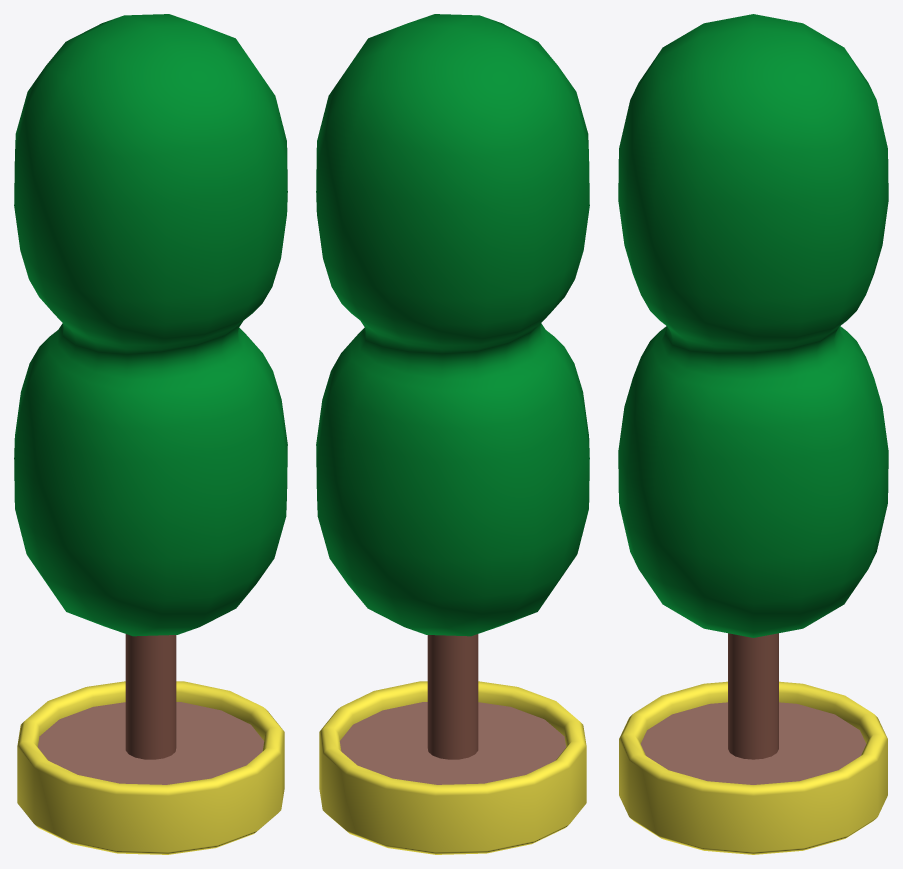
File: Store_10_Tree_1.glb
3 views of the same model, side by side, from view 1: azimuth 30°, elevation 25°; view 2: azimuth 150°, elevation 25°; view 3: azimuth 270°, elevation 25° (orthographic).
Visible parts, largest first — view 1: Store_10_Tree_1; view 2: Store_10_Tree_1; view 3: Store_10_Tree_1.
Part boxes in pixels (x1,y1,x2,y2): Store_10_Tree_1: (14,14,287,854); Store_10_Tree_1: (316,14,589,854); Store_10_Tree_1: (618,14,888,854).
Bounding box in the file's own units: 1.67 × 5.27 × 1.67.
Materials: 1 (1 with a texture image).
